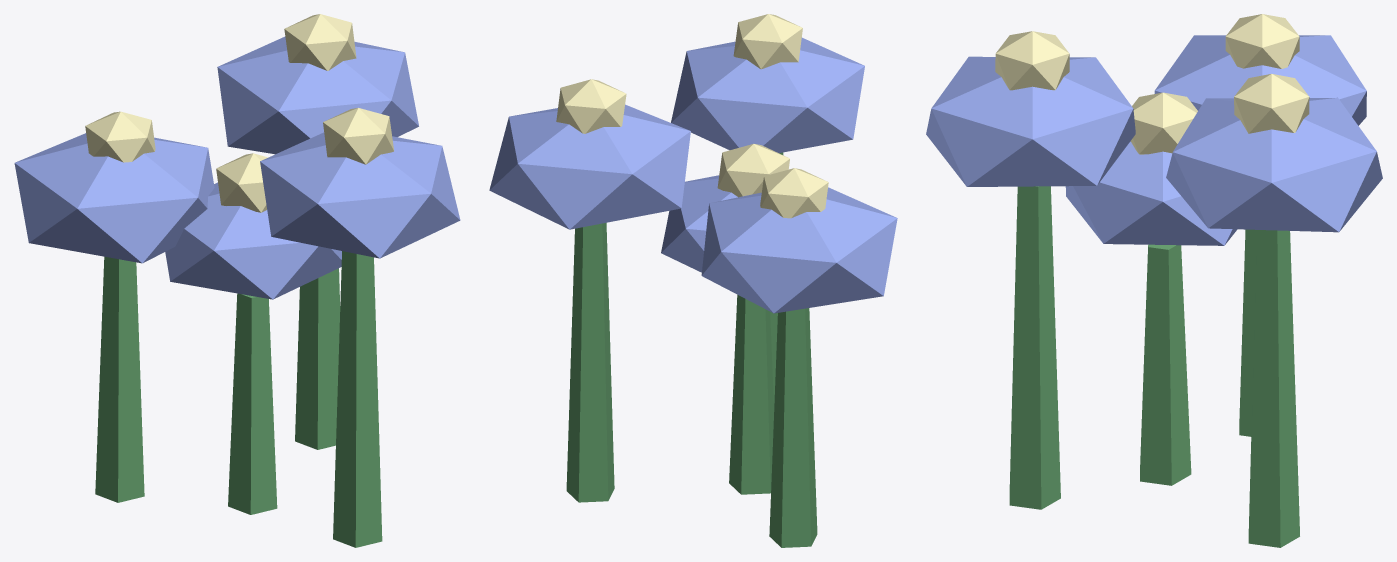
The model's file is Flowers_Blue.glb.
3 views of the same model, side by side, from view 1: azimuth 30°, elevation 25°; view 2: azimuth 150°, elevation 25°; view 3: azimuth 270°, elevation 25° (orthographic). The views are drawn at different scales.
Visible parts, largest first — view 1: Flowers_Blue; view 2: Flowers_Blue; view 3: Flowers_Blue.
Boxes of the visible parts, left/top/right/bottom form: Flowers_Blue: left=14, top=14, right=460, bottom=547; Flowers_Blue: left=489, top=14, right=897, bottom=547; Flowers_Blue: left=926, top=14, right=1382, bottom=547.
Size of the model in its own units: 0.3707 by 0.3995 by 0.3541.
